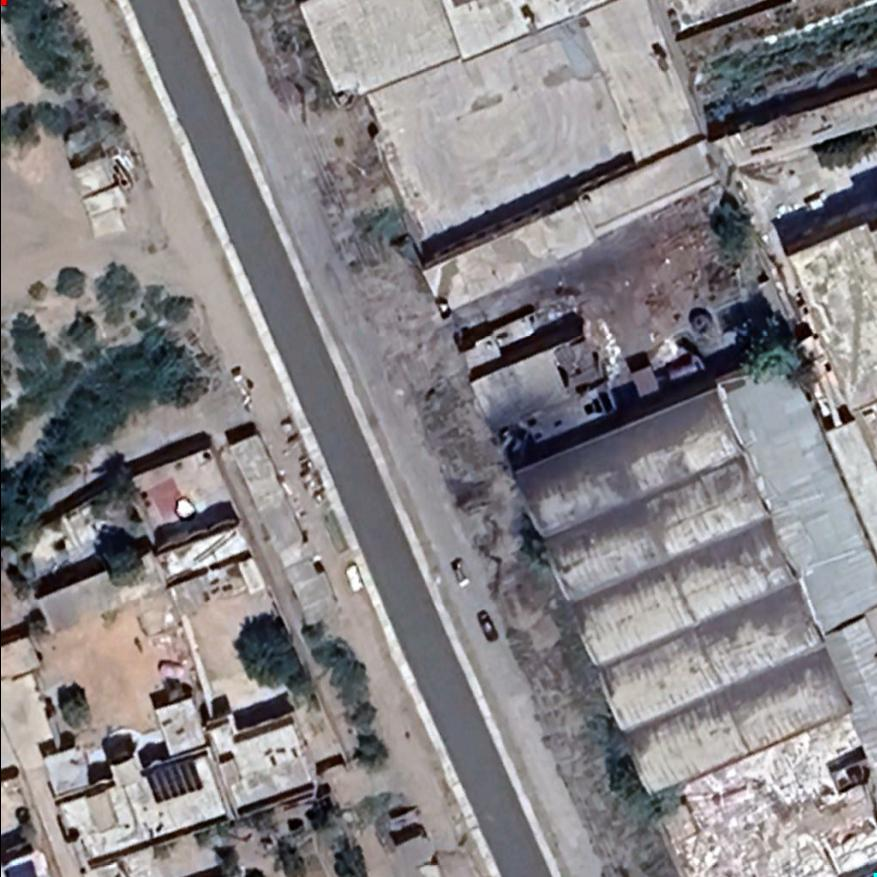Solarpanel: (136, 750, 206, 809)
